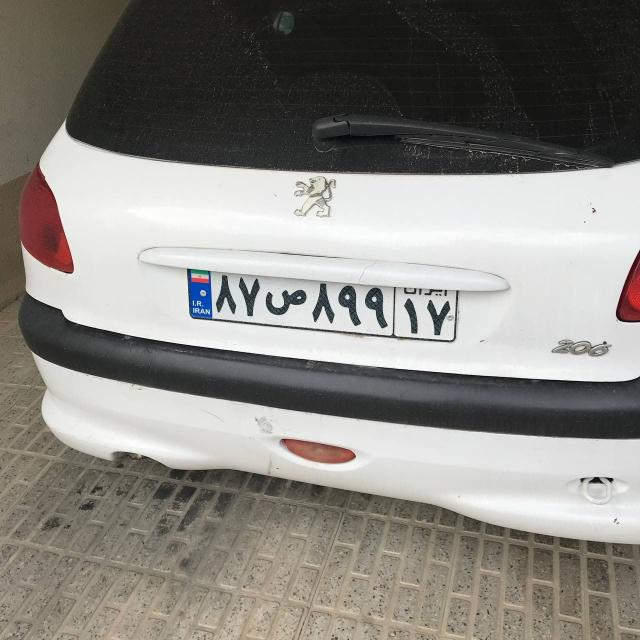Plates: (183, 267, 459, 342)
